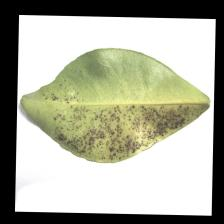canker: (73, 111, 181, 149)
